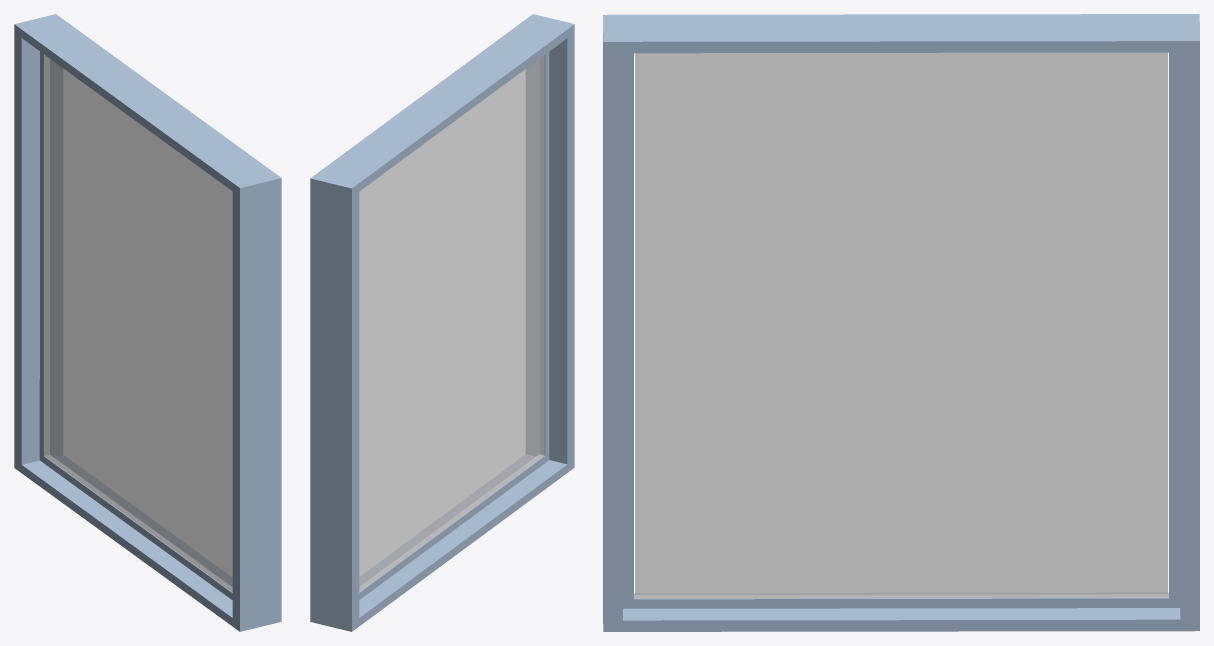
File: Ventana_Fija.fbx
The picture shows the model from 3 angles, left to right: view 1: azimuth 30°, elevation 25°; view 2: azimuth 150°, elevation 25°; view 3: azimuth 270°, elevation 25°; orthographic projection. The views are drawn at different scales.
Visible parts, largest first — view 1: Cube.002, Cube.003, Cube.001; view 2: Cube.002, Cube.003, Cube.001; view 3: Cube.002, Cube.003, Cube.001.
Boxes of the visible parts, left/top/right/bottom form: Cube.002: left=44, top=55, right=232, bottom=592; Cube.003: left=14, top=14, right=281, bottom=631; Cube.001: left=39, top=51, right=232, bottom=599; Cube.002: left=359, top=55, right=544, bottom=591; Cube.003: left=310, top=14, right=574, bottom=631; Cube.001: left=359, top=52, right=549, bottom=599; Cube.002: left=635, top=52, right=1167, bottom=598; Cube.003: left=603, top=14, right=1199, bottom=631; Cube.001: left=623, top=52, right=1180, bottom=608.
Bounding box in the file's own units: 35.24 × 348 × 319.
